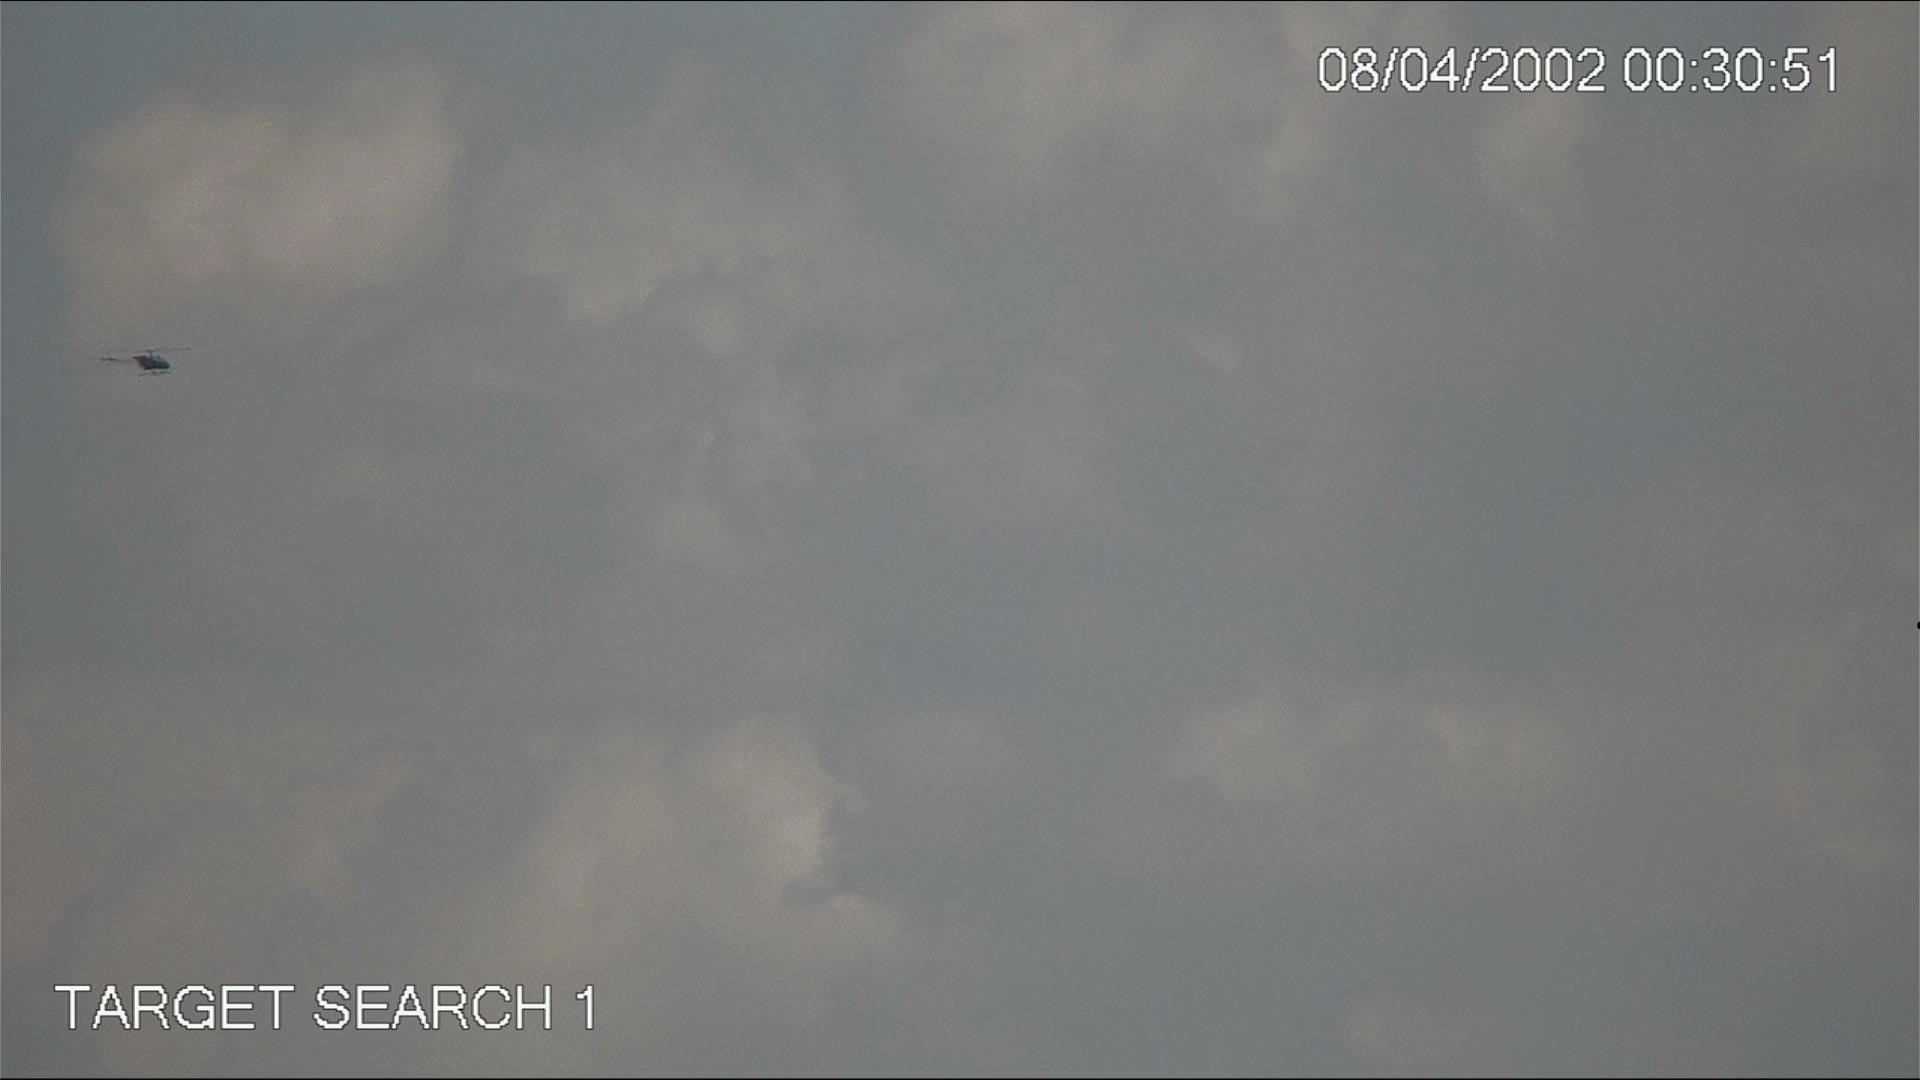SU_30: (94, 344, 193, 384)
